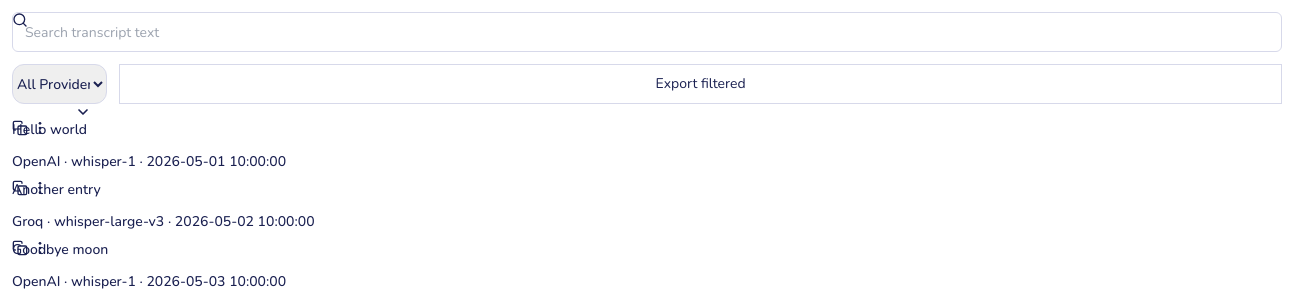
Test: <History /> › filters by search term across the text field
Type "Goodbye" into the field with placeholder "Search transcript text" at (647, 32), box [12,12,1282,52]
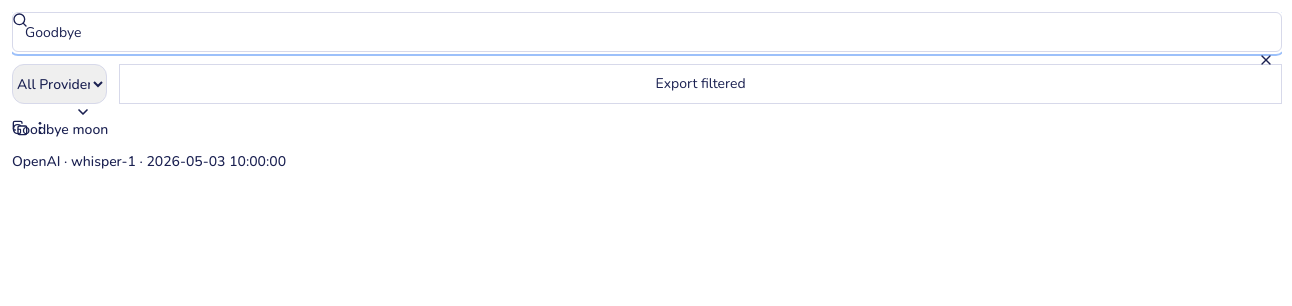
Expected: the list item with test id "history-row" shows "Goodbye moon", [12,120,108,139]
Expected: the number of list items with test id "history-row" is 1, [12,120,286,171]
